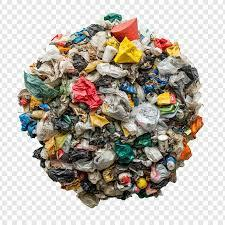Trash: (18, 16, 204, 207)
